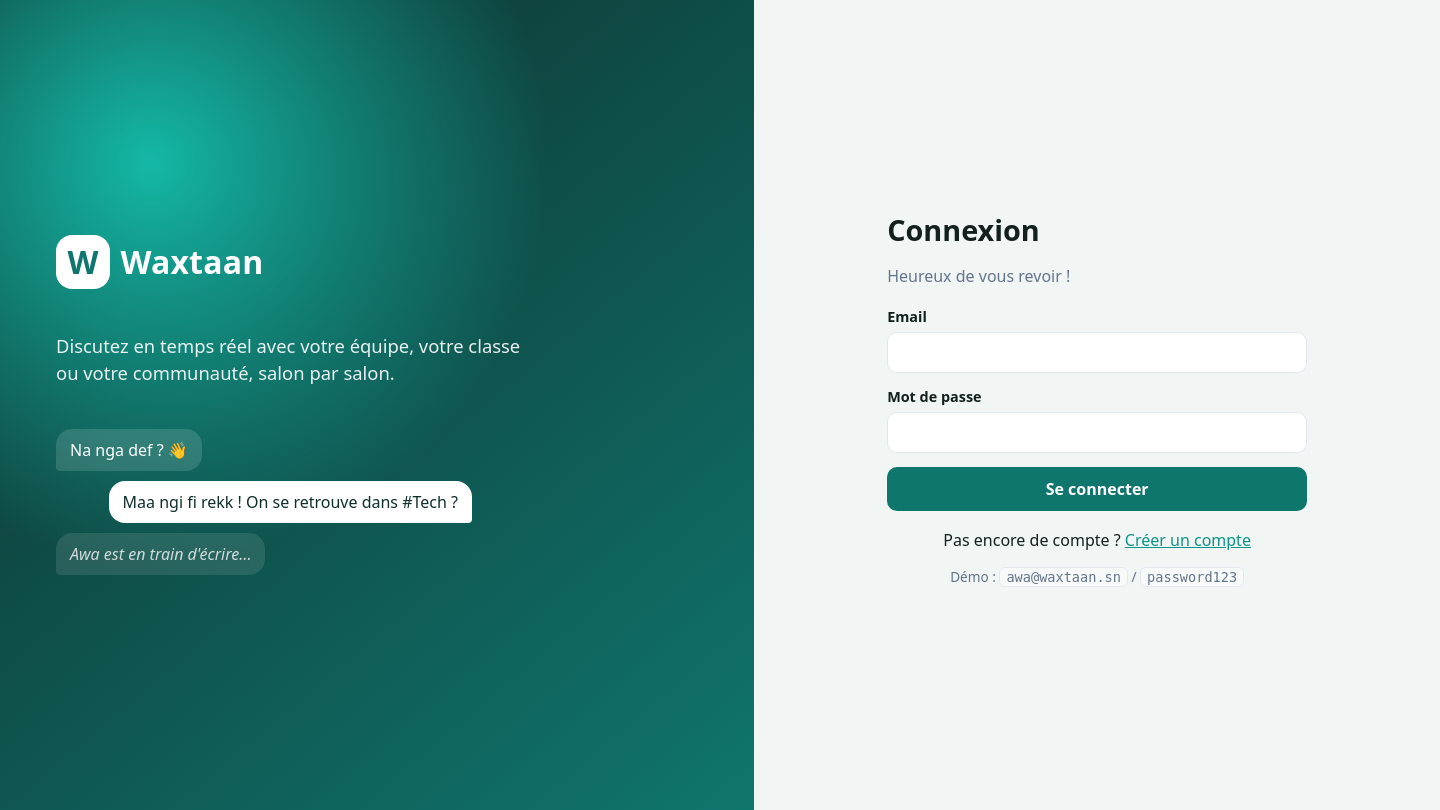
Test: LoginPage › affiche l'erreur du serveur
In the field labelled "Email": (1097, 353) x1=887 y1=332 x2=1307 y2=373, type "awa@waxtaan.sn"
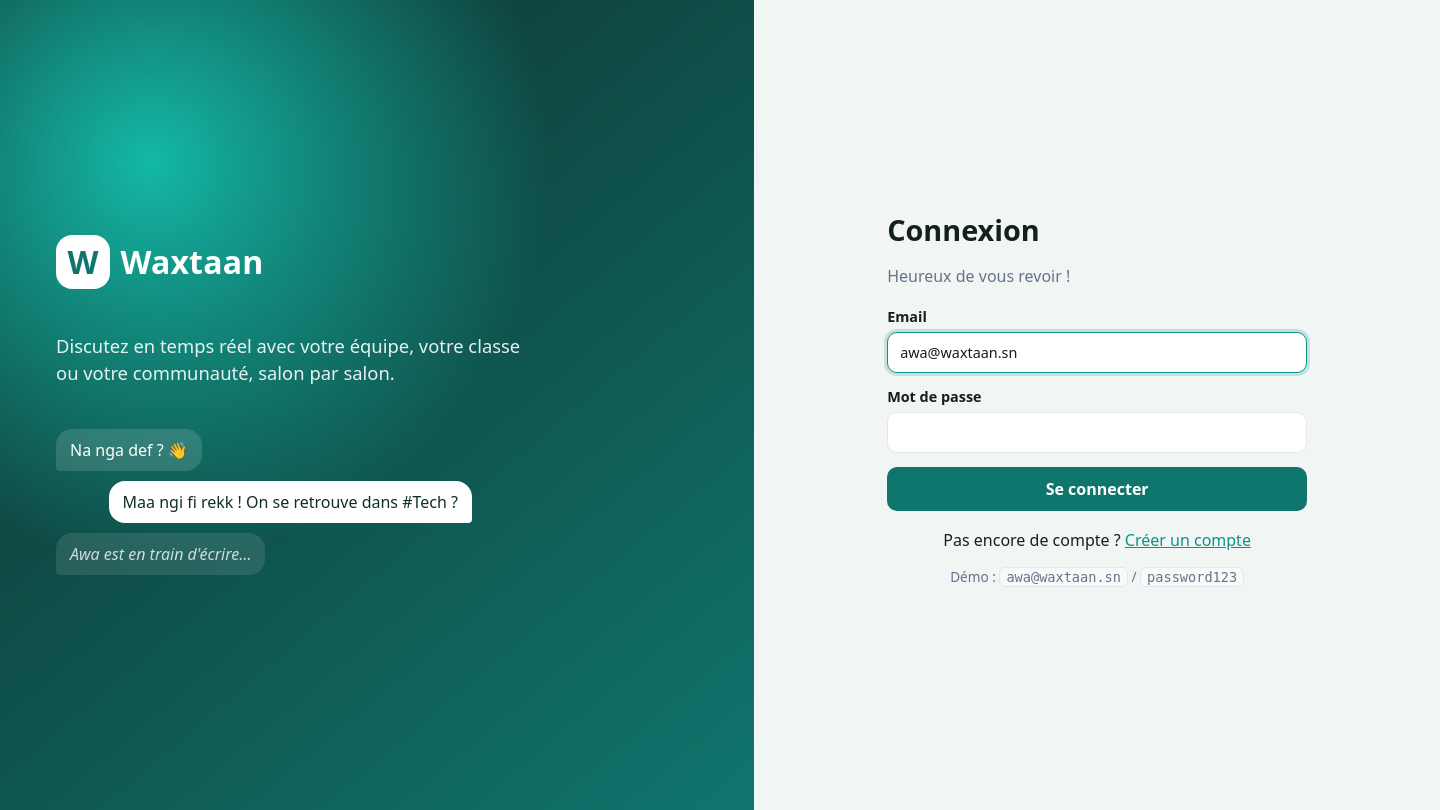
In the password field labelled "Mot de passe": (1097, 433) x1=887 y1=412 x2=1307 y2=453, type "faux"
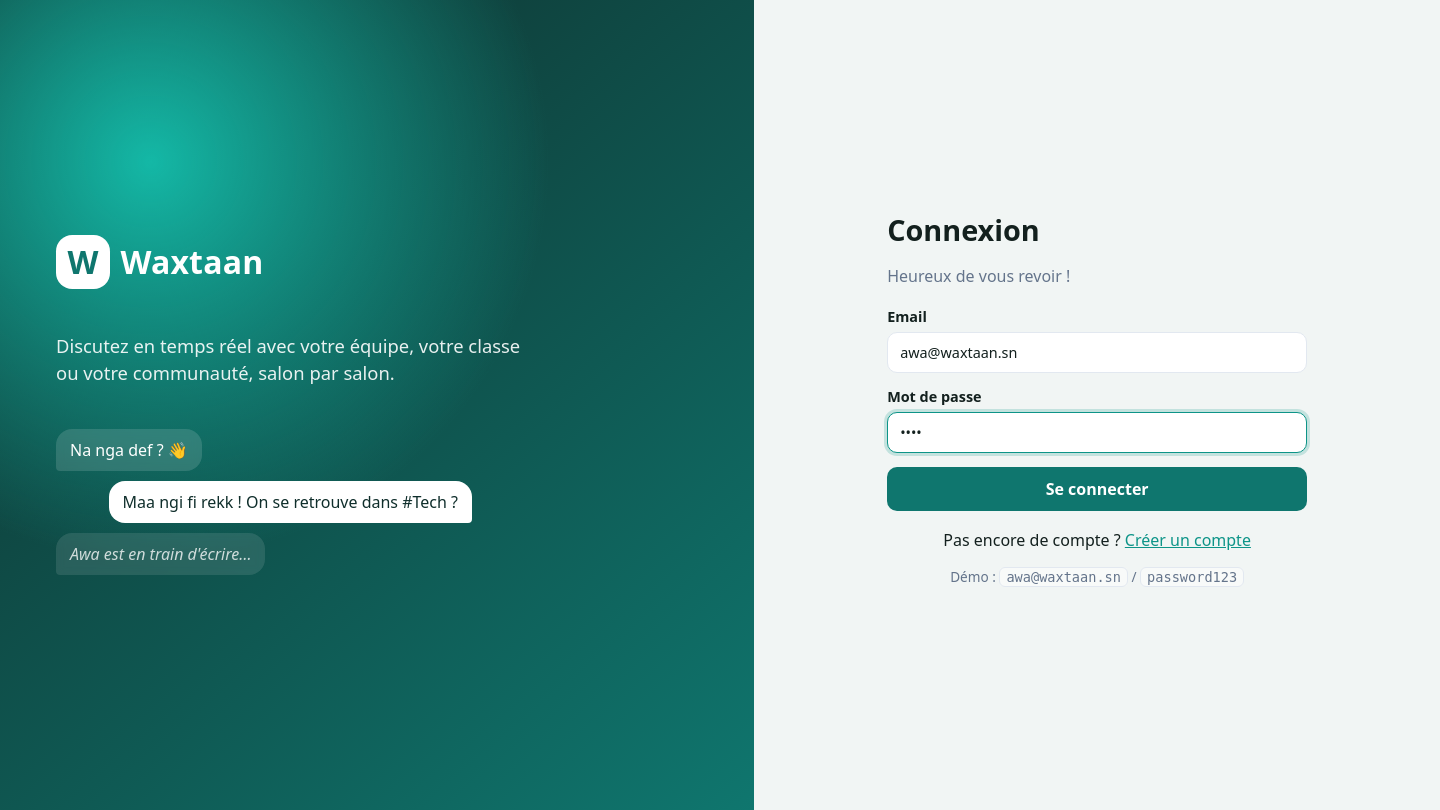
Click the button "Se connecter": click(1097, 489) x1=887 y1=467 x2=1307 y2=511
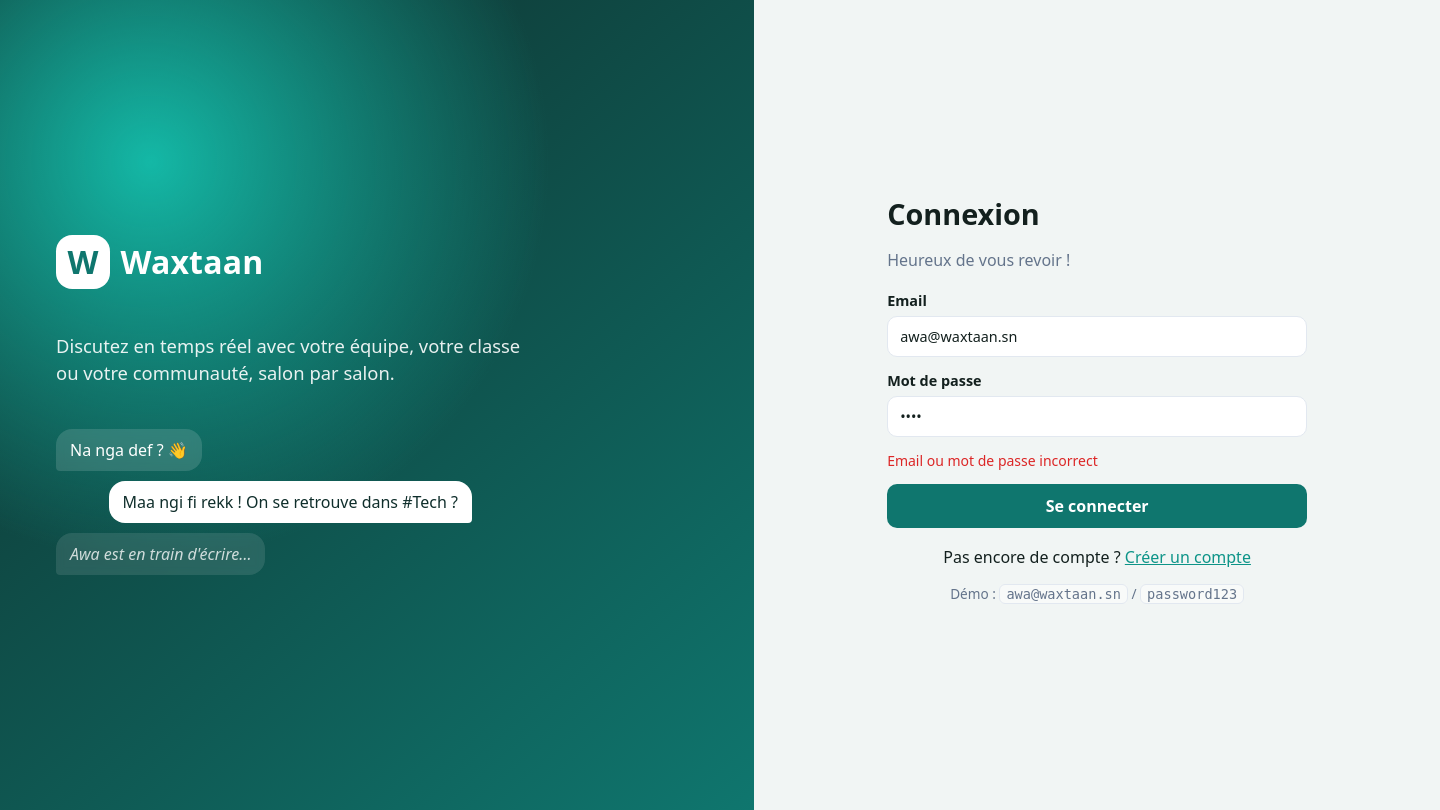
Expected: the message reads "Email ou mot de passe incorrect", x1=887 y1=451 x2=1098 y2=470
